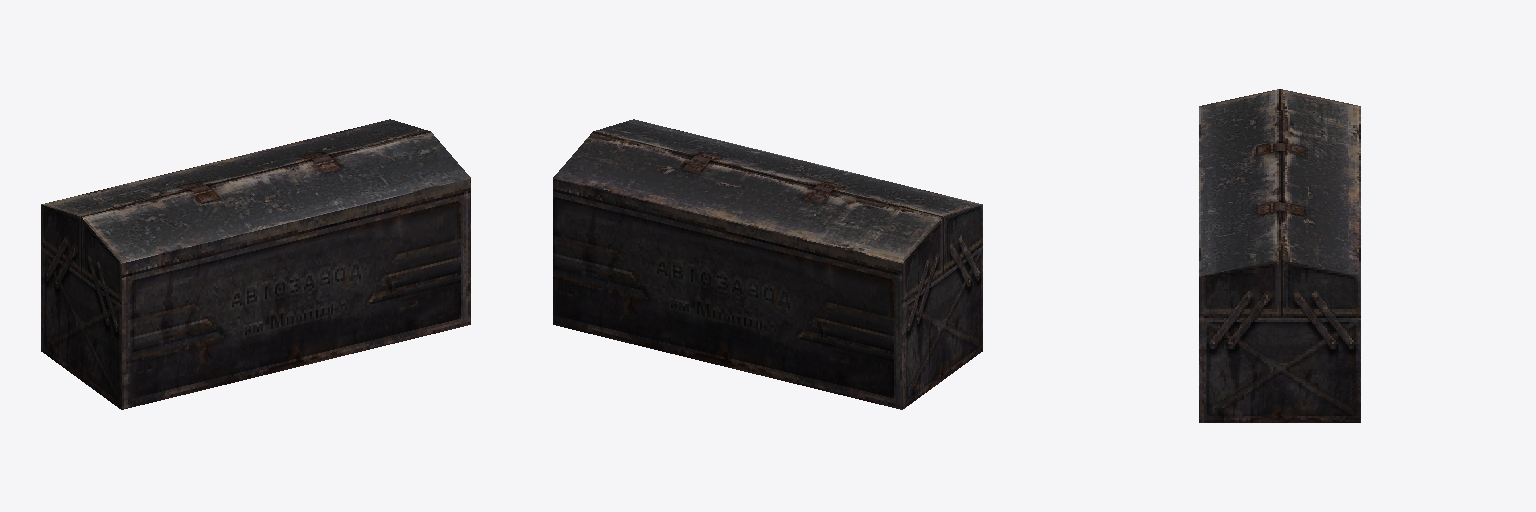
The picture shows the model from 3 angles: view 1: azimuth 30°, elevation 25°; view 2: azimuth 150°, elevation 25°; view 3: azimuth 270°, elevation 25°; orthographic projection.
Parts seen in each view (by area): view 1: Cube_Cube.002; view 2: Cube_Cube.002; view 3: Cube_Cube.002.
Boxes of the visible parts, <box> form: Cube_Cube.002: <box>41,119,470,409</box>; Cube_Cube.002: <box>553,119,982,409</box>; Cube_Cube.002: <box>1199,89,1360,422</box>.
Bounding box in the file's own units: 2.57 × 1.15 × 1.03.
Materials: 1 (1 with a texture image).